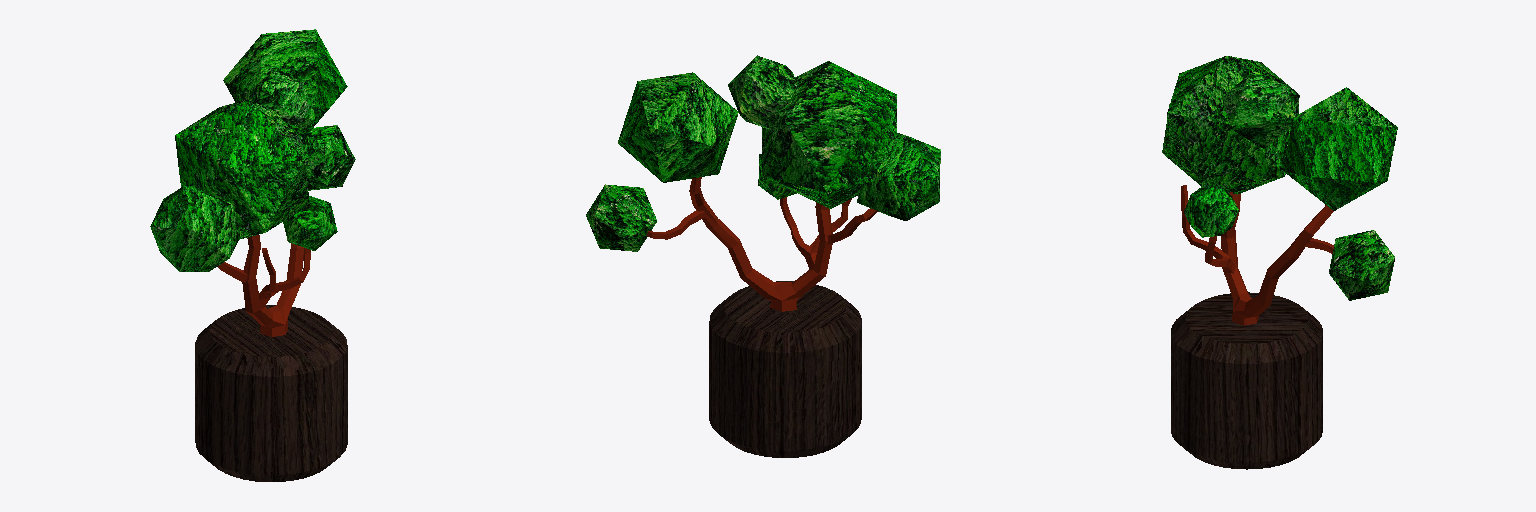
3 views of the same model, side by side, from view 1: azimuth 30°, elevation 25°; view 2: azimuth 150°, elevation 25°; view 3: azimuth 270°, elevation 25° (orthographic).
Visible parts, largest first — view 1: Tree_lp_11, Cylinder; view 2: Tree_lp_11, Cylinder; view 3: Tree_lp_11, Cylinder.
Boxes of the visible parts, <box> form: Tree_lp_11: <box>150,29,355,336</box>; Cylinder: <box>195,305,347,481</box>; Tree_lp_11: <box>586,55,940,311</box>; Cylinder: <box>709,281,861,457</box>; Tree_lp_11: <box>1162,56,1397,325</box>; Cylinder: <box>1171,292,1322,469</box>.
Size of the model in its own units: 2.73 by 3.57 by 2.03.
3 materials, 2 textured.